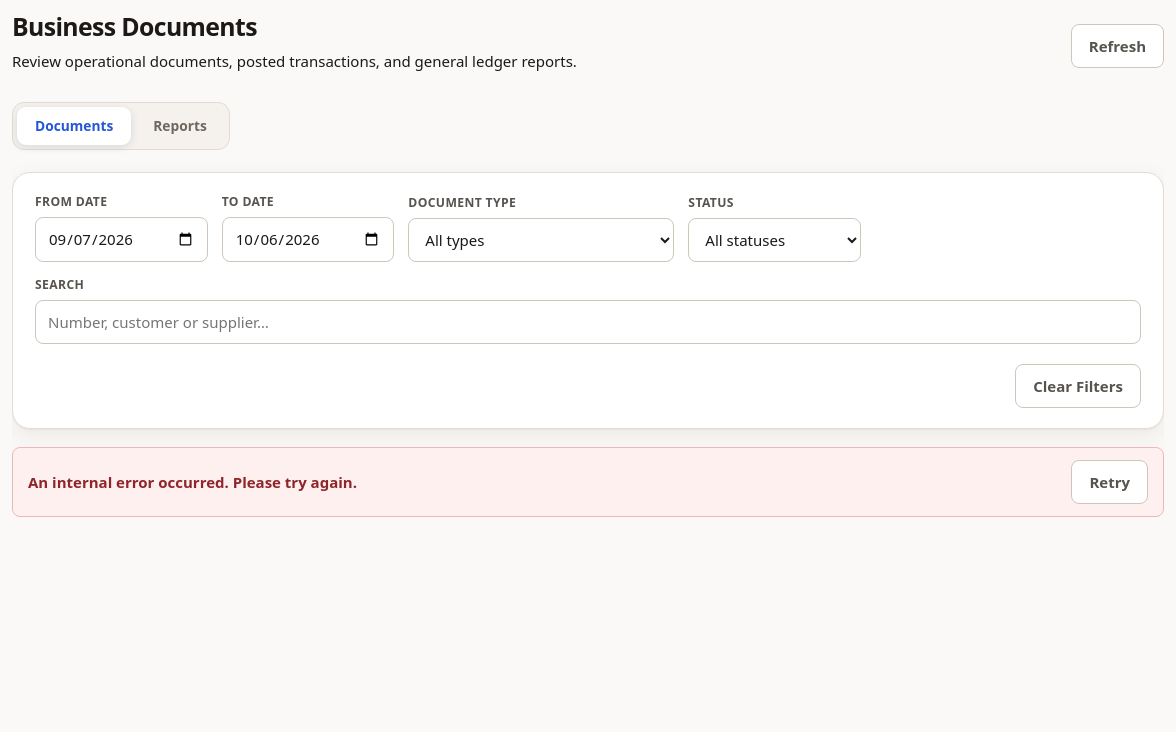
Test: Documents search workflow › shows the error card on a backend failure, and Retry reloads
Expected: the text "An internal error occurred. Please try again." is shown, x1=28 y1=471 x2=357 y2=494
Click the button "Retry" at (1110, 482), box x1=1071 y1=460 x2=1148 y2=504
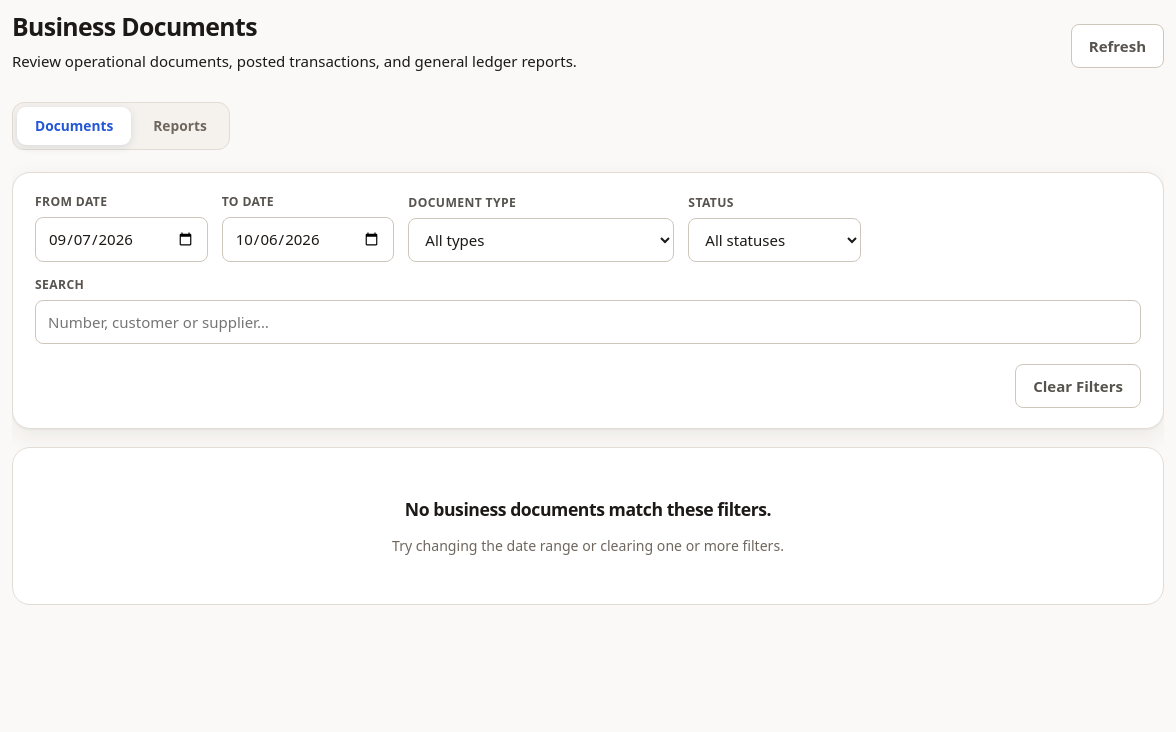
Now the text "An internal error occurred. Please try again." is gone
